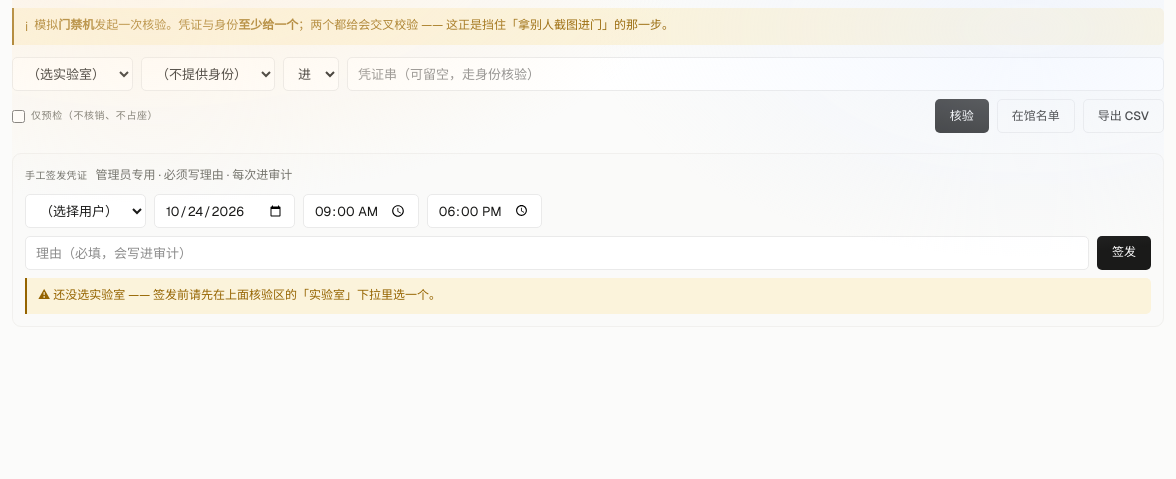
GateSimPane › 只凭凭证放行时提示要选身份才能出场
The image size is (1176, 479).
Select "光谱实验室" in the dropdown named "实验室": (72, 74) x1=12 y1=57 x2=133 y2=91
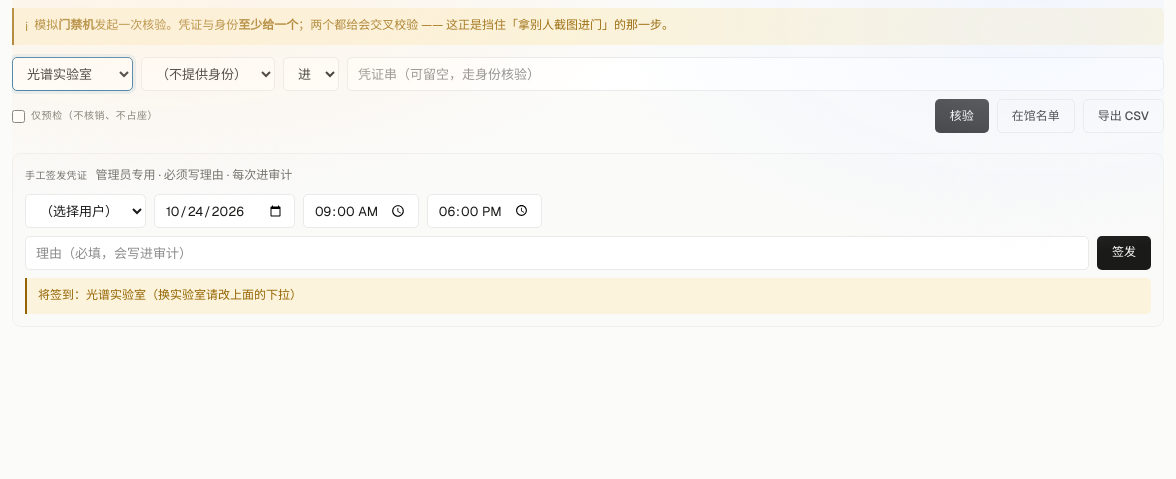
In the field with placeholder "凭证串（可留空，走身份核验）": (756, 74) x1=347 y1=57 x2=1164 y2=91, type "permit-abc"
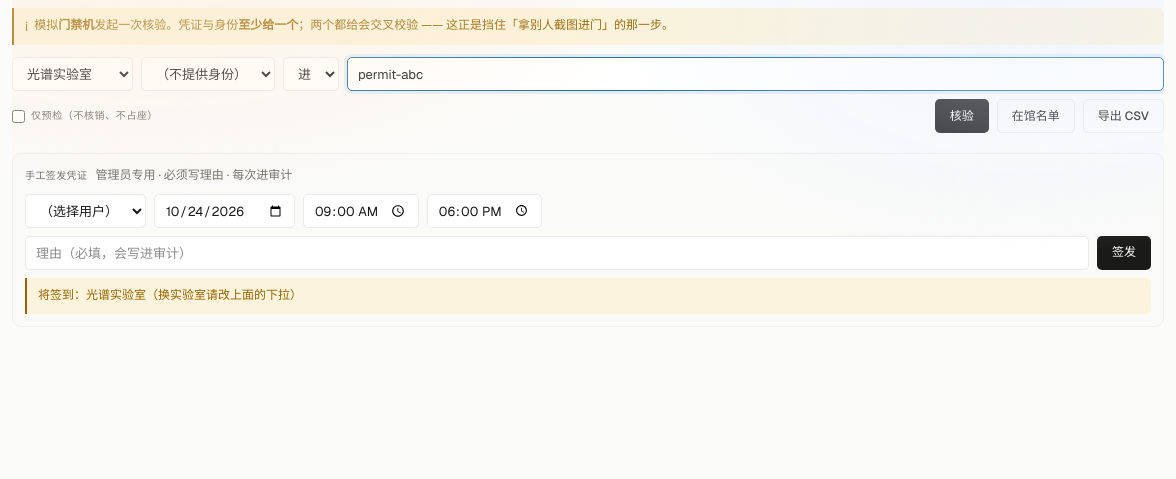
Click the button "核验": (962, 116) x1=935 y1=99 x2=989 y2=133
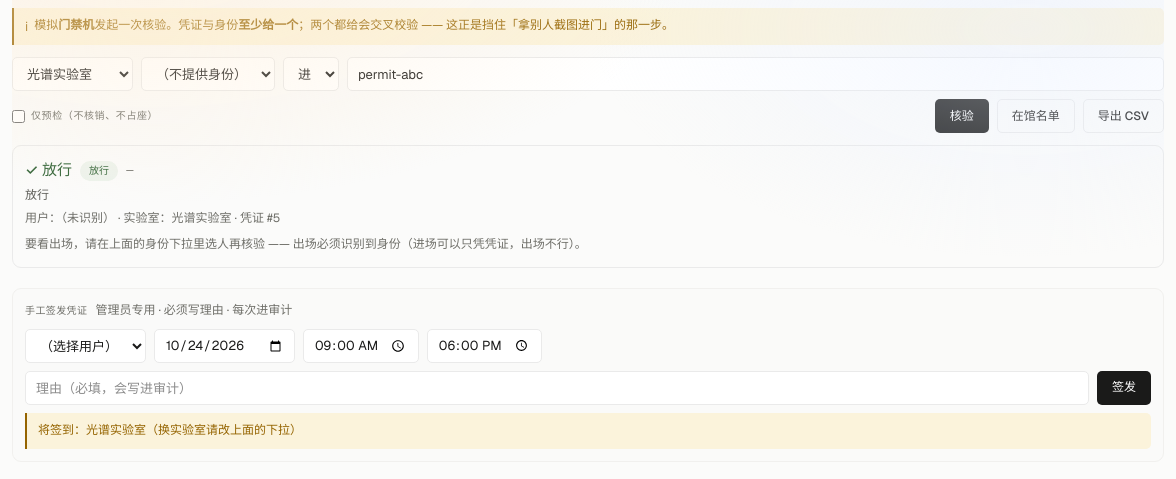
Expected: the text "要看出场，请在上面的身份下拉里选人再核验 —— 出场必须识别到身份（进场可以只凭凭证，出场不行）。" is shown, x1=25 y1=236 x2=587 y2=252
